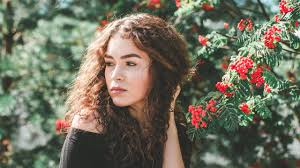bare: (105, 70, 147, 106)
